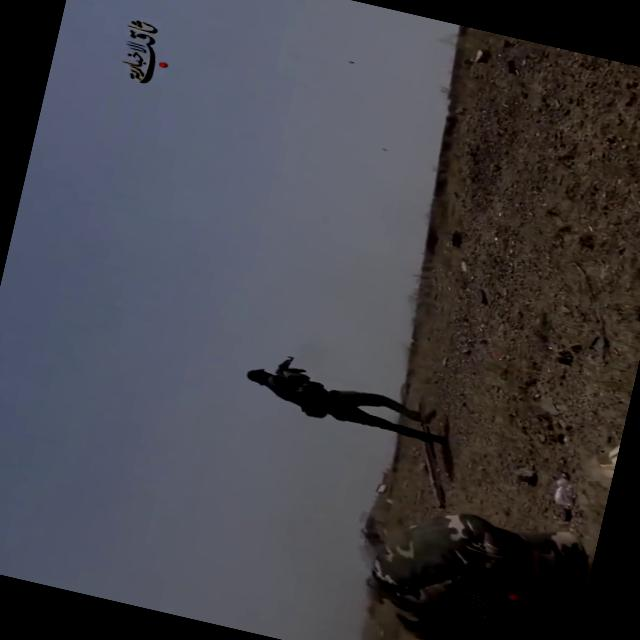long weapon: (272, 348, 310, 382)
